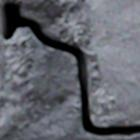brick: (85, 0, 139, 120), (0, 46, 3, 76), (0, 17, 1, 35)
crack: (0, 0, 139, 138)
